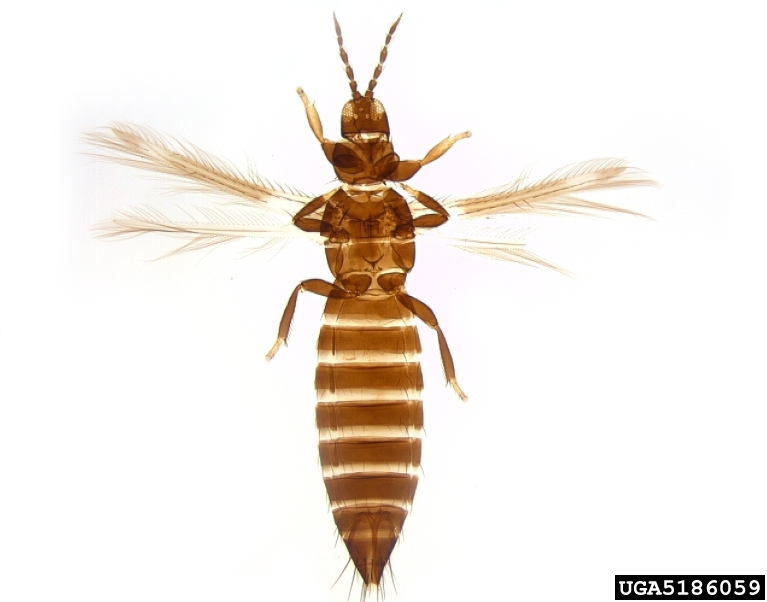Thrips: (72, 3, 671, 602)
